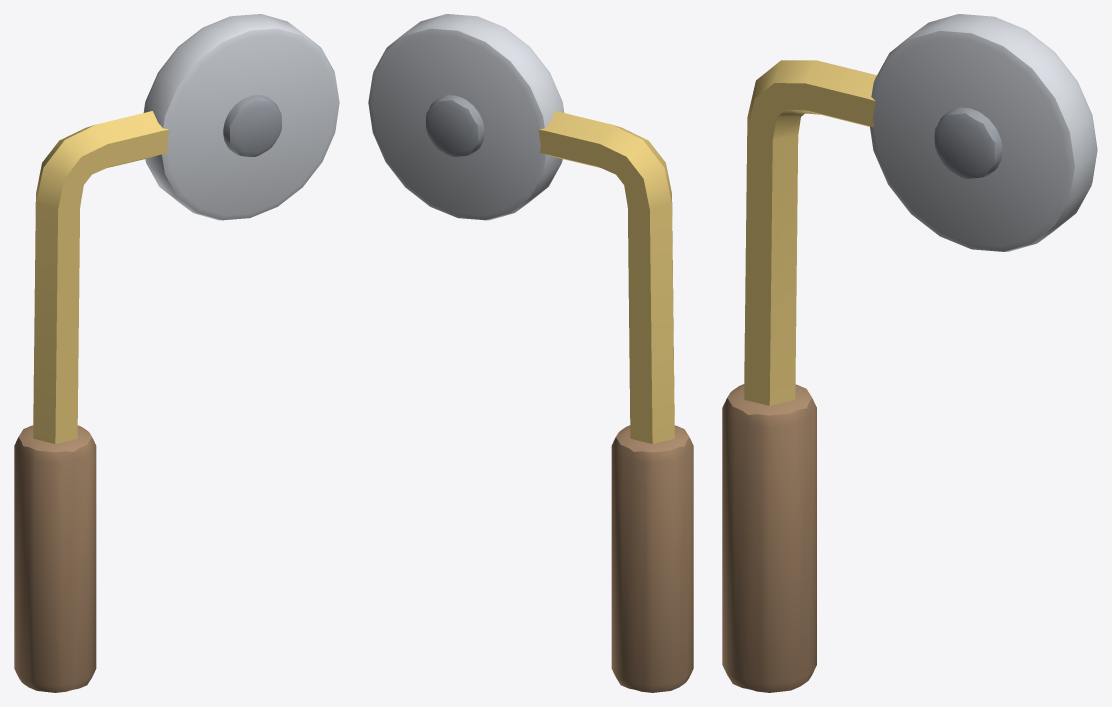
File: CrankPump.fbx
3 renders of one model, left to right at view 1: azimuth 30°, elevation 25°; view 2: azimuth 150°, elevation 25°; view 3: azimuth 330°, elevation 25°, orthographic. The views are drawn at different scales.
Parts seen in each view (by area): view 1: Gear, Handle, Arm, Hub; view 2: Gear, Handle, Arm, Hub; view 3: Gear, Handle, Arm, Hub.
Part boxes in pixels (x1,y1,x2,y2): Gear: (143,14,339,220); Handle: (14,425,96,692); Arm: (33,111,169,443); Hub: (223,95,281,156); Gear: (368,14,564,220); Handle: (611,425,693,692); Arm: (538,111,674,443); Hub: (426,95,484,156); Gear: (870,14,1097,251); Handle: (722,384,816,692); Arm: (744,60,876,405); Hub: (934,107,1002,178).
Size of the model in its own units: 2.1 by 3.97 by 0.4557.
